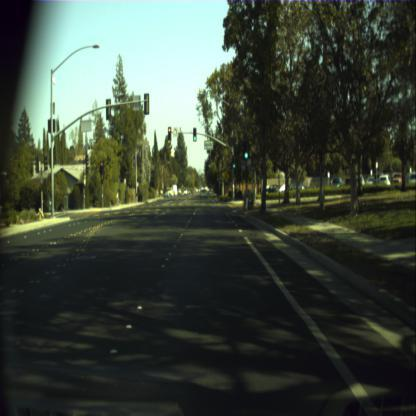Green: (244, 142, 248, 158), (232, 156, 235, 168), (193, 128, 196, 140)
RedLeft: (168, 127, 171, 139), (101, 162, 103, 174)
